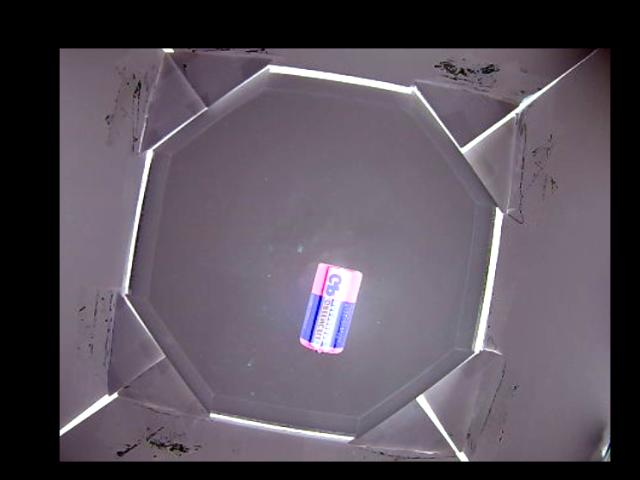Battery: (298, 261, 362, 354)
